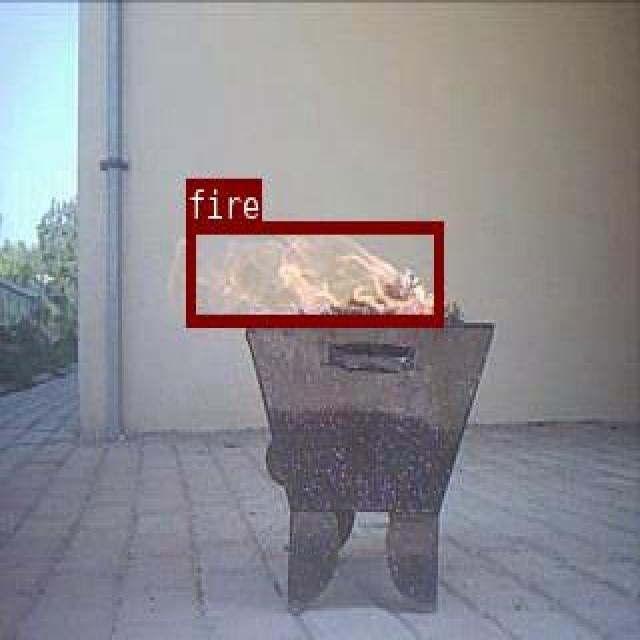fire: (185, 219, 442, 325)
